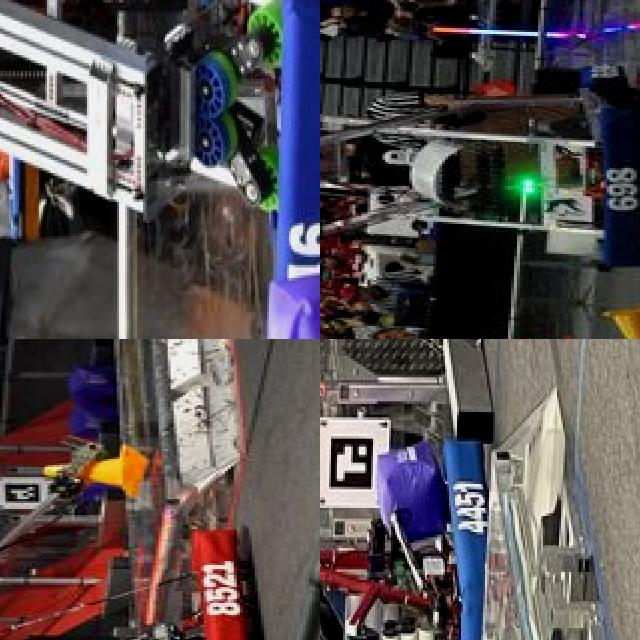FRC-Robots: (0, 0, 320, 339), (320, 71, 640, 271), (0, 445, 293, 640), (320, 410, 494, 640)
